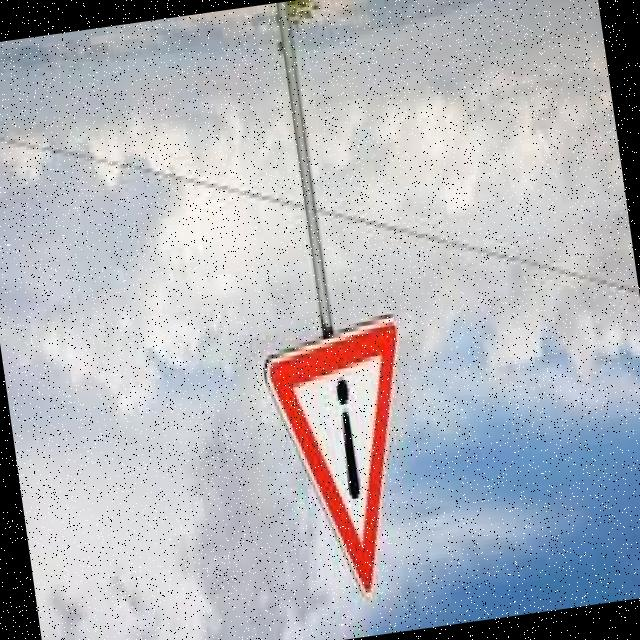warning: (258, 305, 436, 614)
